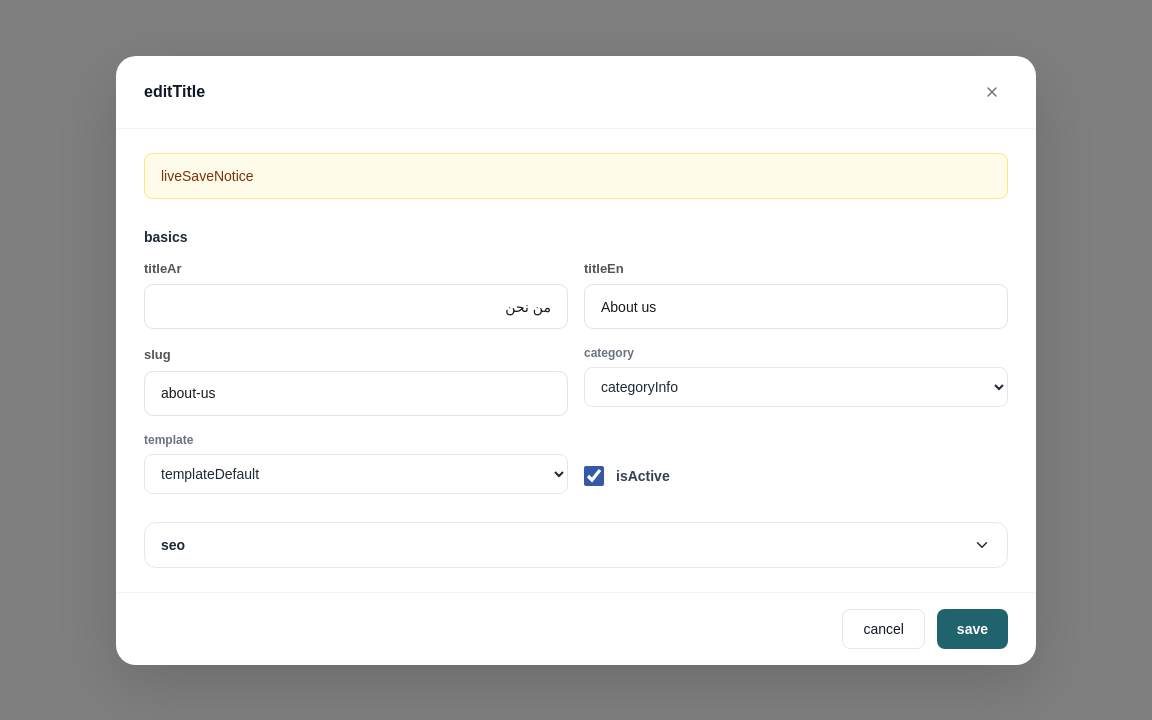
Scenario: CmsPageDialog homepage behavior › maps non-media page conflicts to the slug message
Click the button "save".
click(972, 628)  # box [937,608,1008,648]
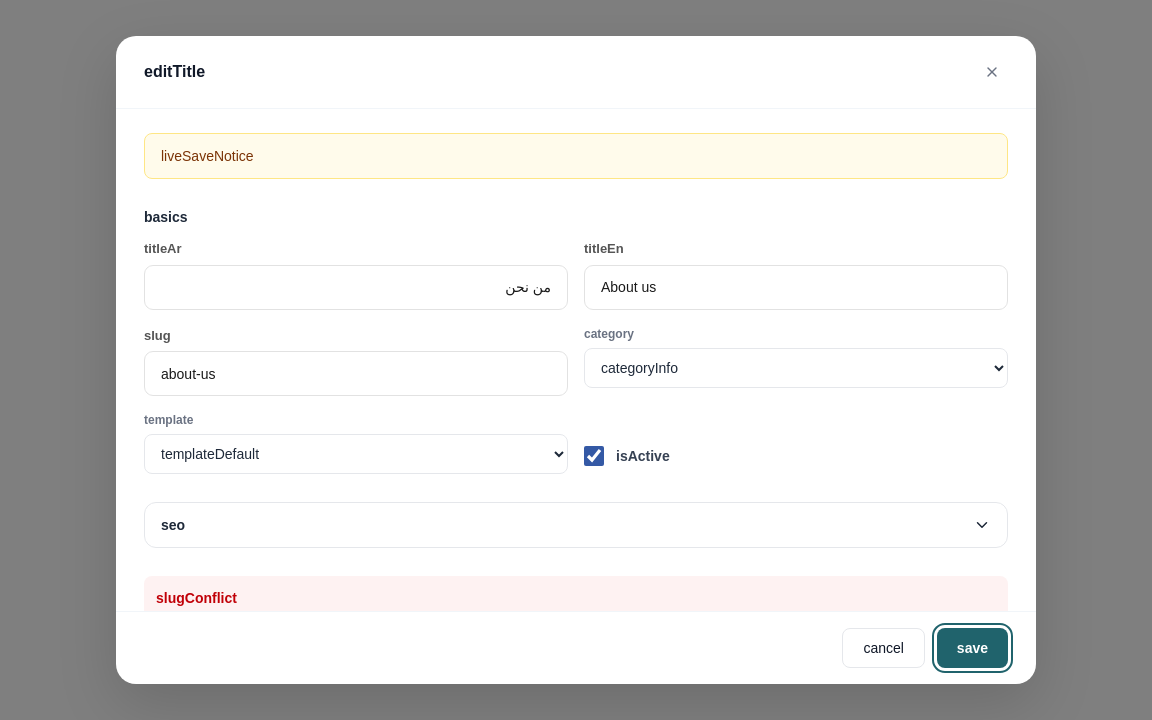
Expected: the message reads "slugConflict", [156,590,237,606]
